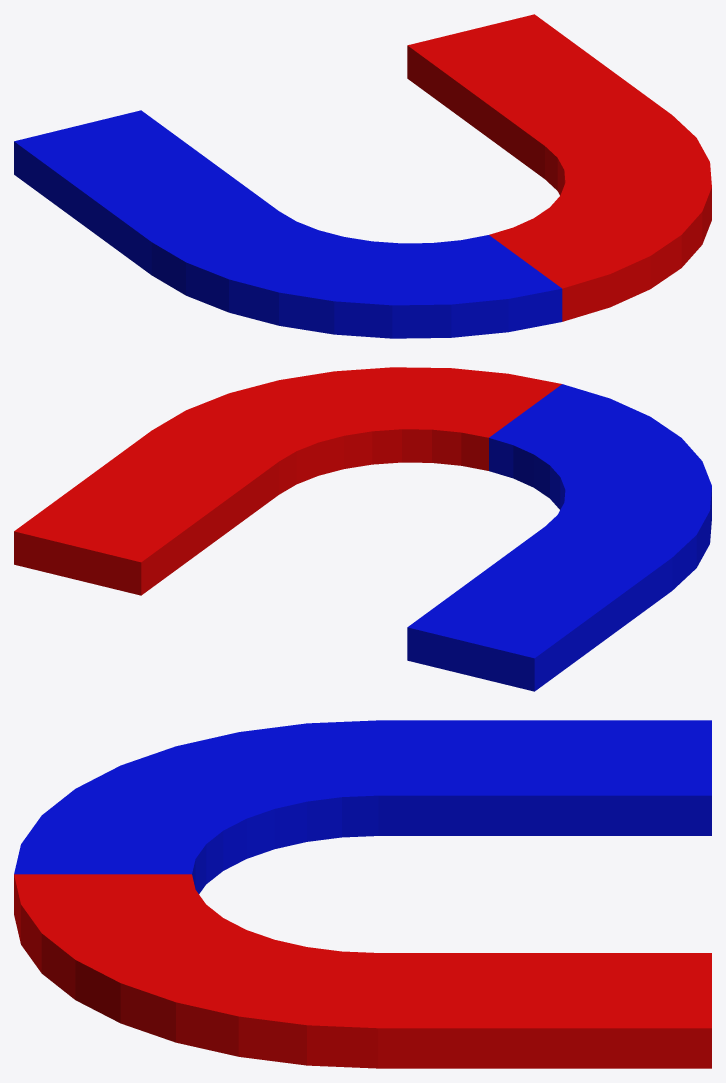
The model's file is magnet.fbx.
3 views of the same model, one above another, from view 1: azimuth 30°, elevation 25°; view 2: azimuth 150°, elevation 25°; view 3: azimuth 270°, elevation 25° (orthographic). The views are drawn at different scales.
Visible parts, largest first — view 1: Cube.001; view 2: Cube.001; view 3: Cube.001.
Boxes of the visible parts, bbox=[...] form: Cube.001: bbox=[14, 14, 711, 338]; Cube.001: bbox=[14, 367, 711, 691]; Cube.001: bbox=[14, 720, 711, 1068].
Bounding box in the file's own units: 3273 × 200 × 3137.
